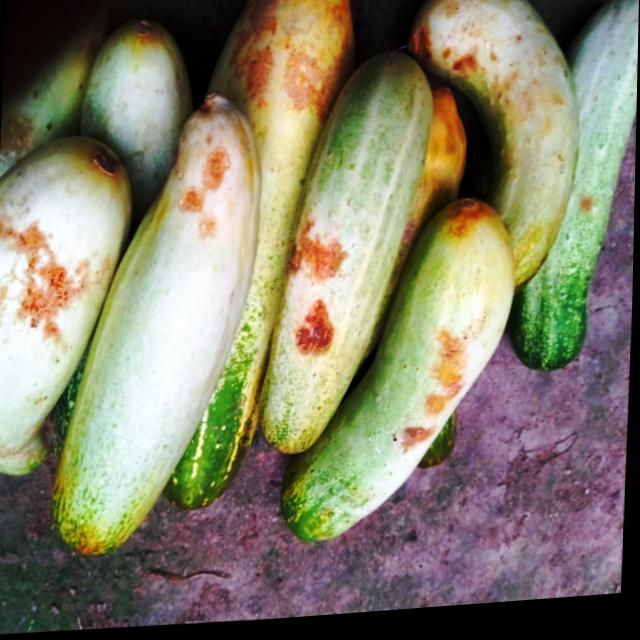Belly-Rot: (224, 0, 358, 130), (0, 212, 113, 350), (274, 218, 358, 366), (405, 0, 510, 98), (397, 332, 473, 459), (167, 133, 240, 251), (1, 107, 37, 162), (575, 198, 602, 232)
